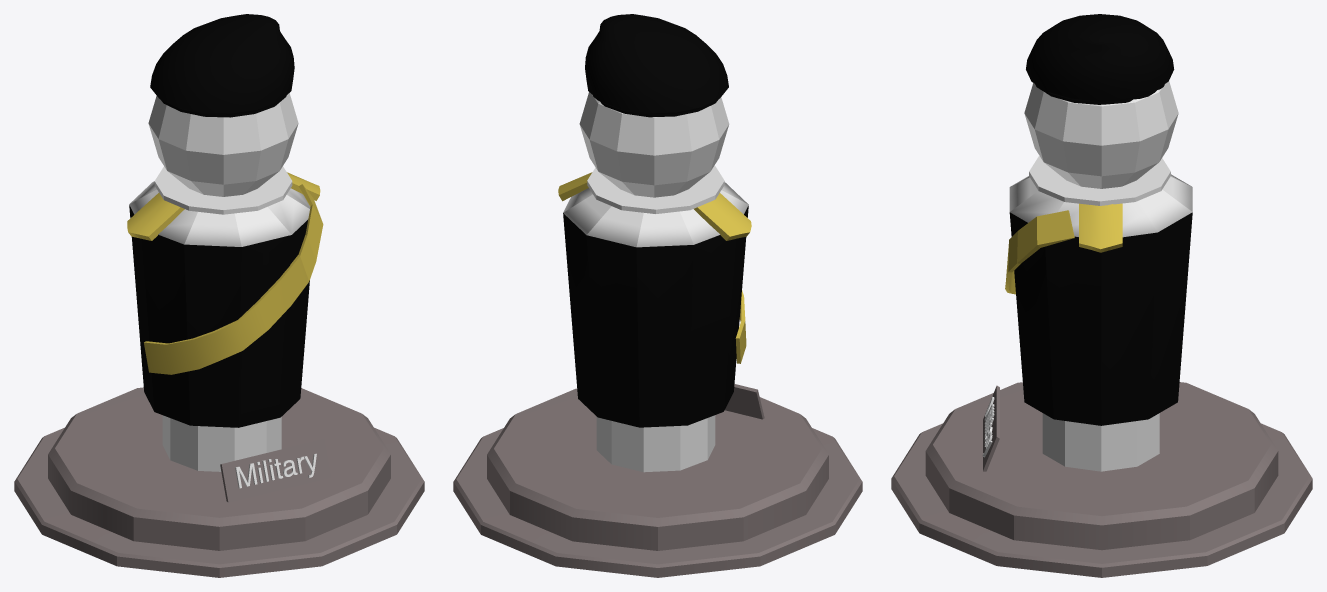
File: military.fbx
3 renders of one model, left to right at view 1: azimuth 30°, elevation 25°; view 2: azimuth 150°, elevation 25°; view 3: azimuth 270°, elevation 25°, orthographic. The views are drawn at different scales.
Parts seen in each view (by area): view 1: pCylinder9, pCylinder13, pSphere13, pSphere3, pCube12, pCube16, pCylinder15, pCube11; view 2: pCylinder9, pCylinder13, pSphere13, pSphere3, pCylinder15, pCube11, pCube16; view 3: pCylinder9, pCylinder13, pSphere3, pSphere13, pCylinder15, pCube12, pCube10, pCube16.
Part boxes in pixels (x1,y1,x2,y2): pCylinder9: (14, 387, 424, 577); pCylinder13: (129, 181, 310, 471); pSphere13: (150, 14, 294, 117); pSphere3: (148, 93, 298, 196); pCube12: (144, 184, 323, 374); pCube16: (220, 439, 330, 502); pCylinder15: (154, 166, 292, 214); pCube11: (127, 193, 184, 240); pCylinder9: (453, 388, 862, 577); pCylinder13: (563, 182, 748, 472); pSphere13: (585, 14, 728, 117); pSphere3: (579, 92, 729, 197); pCylinder15: (587, 166, 724, 213); pCube11: (694, 193, 751, 240); pCube16: (725, 384, 764, 419); pCylinder9: (891, 382, 1312, 577); pCylinder13: (1009, 174, 1192, 471); pSphere3: (1024, 81, 1178, 188); pSphere13: (1026, 14, 1174, 104); pCylinder15: (1029, 156, 1170, 205); pCube12: (1005, 210, 1074, 294); pCube10: (1079, 203, 1122, 252); pCube16: (983, 385, 999, 471).
Bounding box in the file's own units: 10.26 × 12.8 × 10.26.
